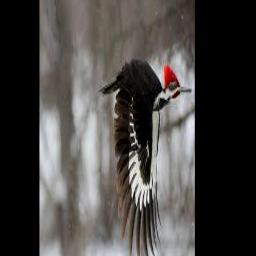Woodpecker: (99, 61, 192, 256)
